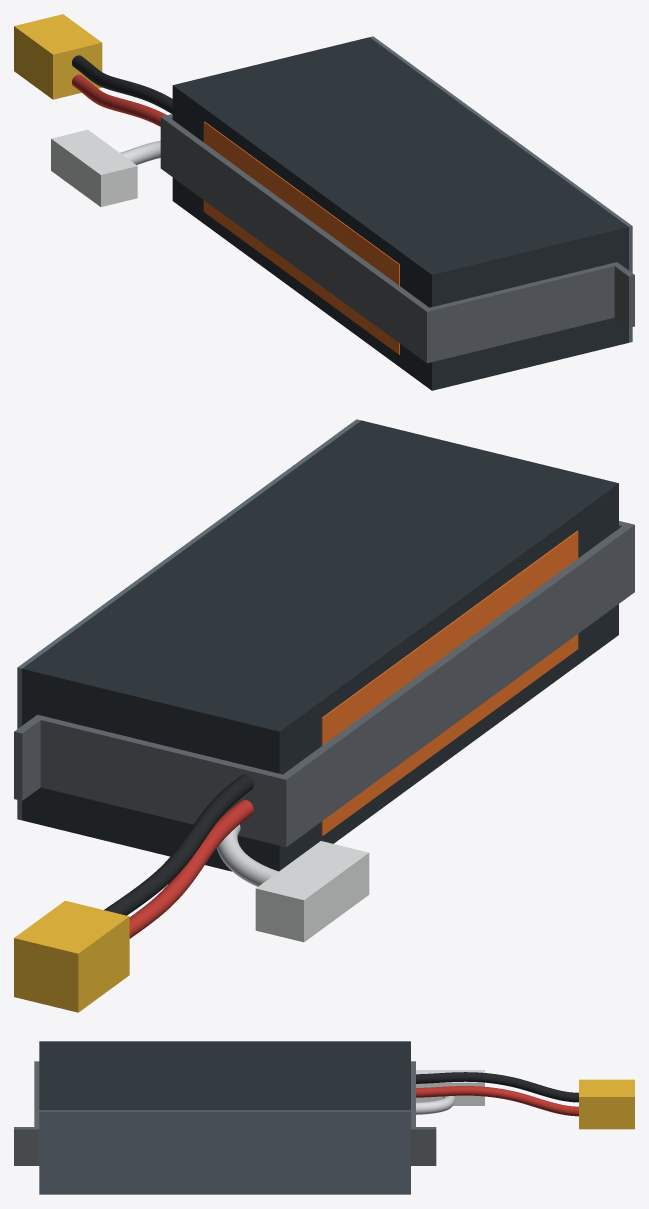
File: battery_pack.glb
3 renders of one model, top to bottom at view 1: azimuth 30°, elevation 25°; view 2: azimuth 150°, elevation 25°; view 3: azimuth 270°, elevation 25°, orthographic. The views are drawn at different scales.
Visible parts, largest first — view 1: battery_pack (×9); view 2: battery_pack (×9); view 3: battery_pack (×8).
Boxes of the visible parts, x1,y1,x2,y2 form: battery_pack (×9): (14, 14, 634, 390); battery_pack (×9): (14, 419, 634, 1012); battery_pack (×8): (14, 1041, 634, 1194).
Bounding box in the file's own units: 0.044 × 0.018 × 0.122.
